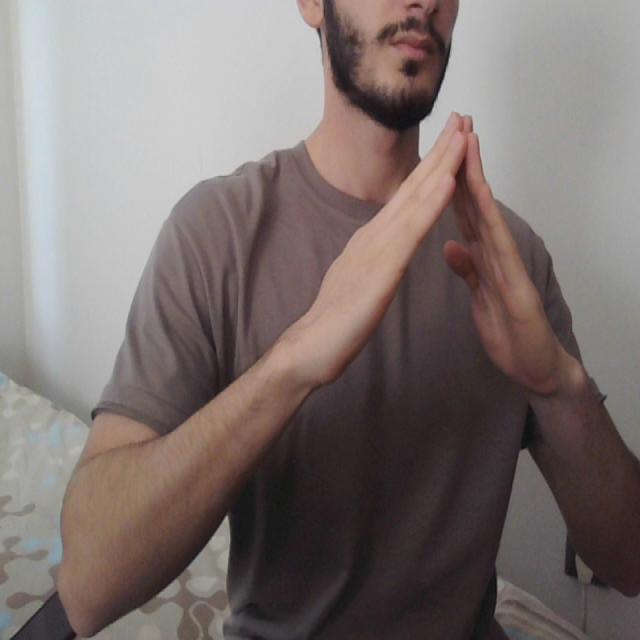Ev: (301, 109, 573, 393)
